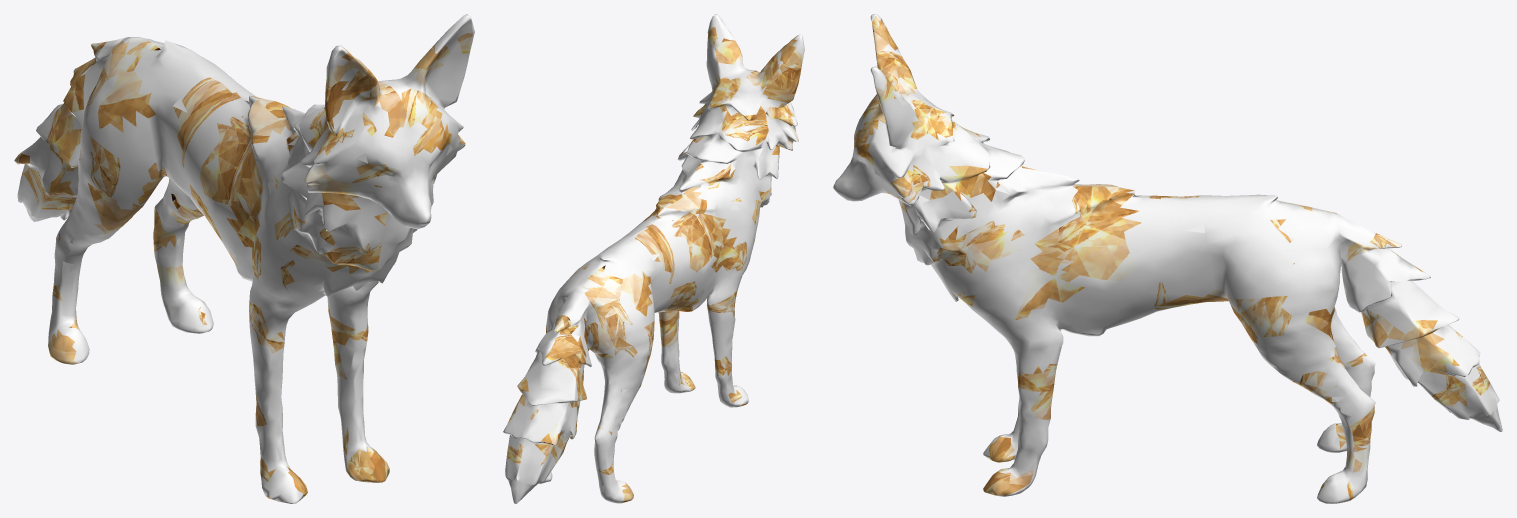
File: mirage_jackal_gold_10k.fbx
3 views of the same model, side by side, from view 1: azimuth 30°, elevation 25°; view 2: azimuth 150°, elevation 25°; view 3: azimuth 270°, elevation 25° (orthographic). The views are drawn at different scales.
Visible parts, largest first — view 1: mirage_jackal_gold_decimated; view 2: mirage_jackal_gold_decimated; view 3: mirage_jackal_gold_decimated.
Boxes of the visible parts, x1,y1,x2,y2 form: mirage_jackal_gold_decimated: (14, 14, 474, 503); mirage_jackal_gold_decimated: (503, 14, 804, 503); mirage_jackal_gold_decimated: (833, 14, 1502, 503).
Bounding box in the file's own units: 0.4423 × 1.36 × 1.9.
